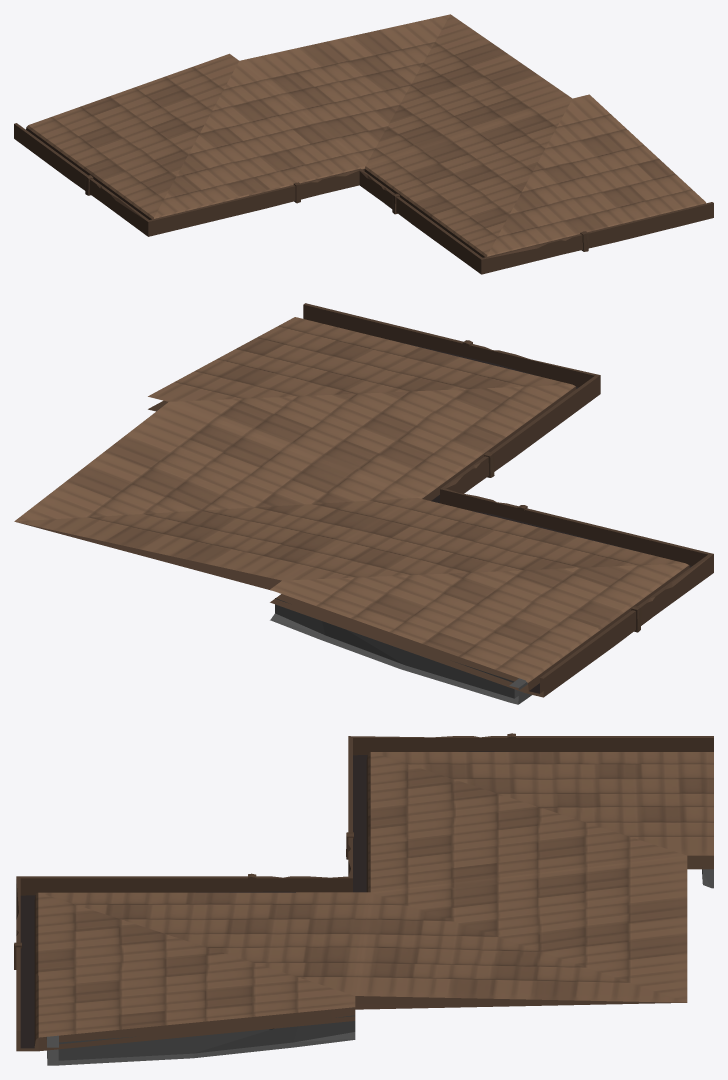
File: SM_Bld_House_Deck_Roof_InnerCorner_03.fbx
3 views of the same model, one above another, from view 1: azimuth 30°, elevation 25°; view 2: azimuth 150°, elevation 25°; view 3: azimuth 270°, elevation 25° (orthographic). The views are drawn at different scales.
Parts seen in each view (by area): view 1: SM_Bld_House_Deck_Roof_InnerCorner_03; view 2: SM_Bld_House_Deck_Roof_InnerCorner_03; view 3: SM_Bld_House_Deck_Roof_InnerCorner_03.
Boxes of the visible parts, <box> form: SM_Bld_House_Deck_Roof_InnerCorner_03: <box>14,14,713,274</box>; SM_Bld_House_Deck_Roof_InnerCorner_03: <box>14,303,713,704</box>; SM_Bld_House_Deck_Roof_InnerCorner_03: <box>14,733,713,1065</box>.
Bounding box in the file's own units: 527 × 48.95 × 527.
